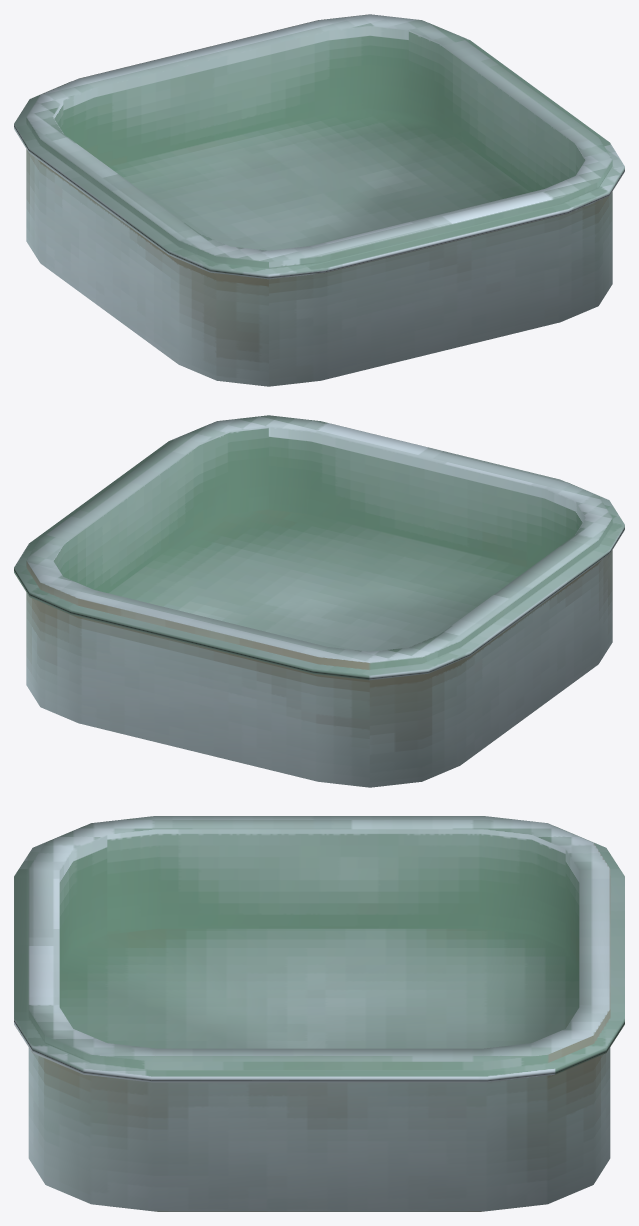
The model's file is tub4.fbx.
The picture shows the model from 3 angles, top to bottom: view 1: azimuth 30°, elevation 25°; view 2: azimuth 150°, elevation 25°; view 3: azimuth 270°, elevation 25°; orthographic projection. The views are drawn at different scales.
Visible parts, largest first — view 1: Tub4; view 2: Tub4; view 3: Tub4.
Part boxes in pixels (x1,y1,x2,y2): Tub4: (14,14,624,386); Tub4: (14,415,624,787); Tub4: (14,816,624,1211).
Bounding box in the file's own units: 210 × 61.77 × 210.
